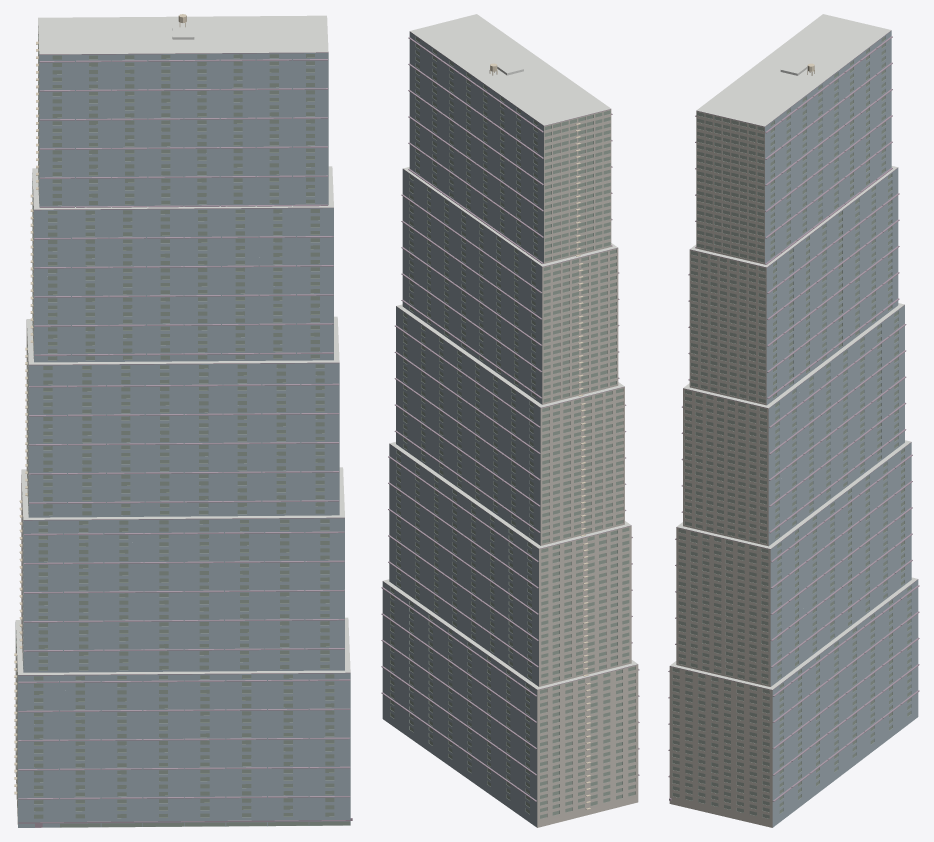
Rendered from doitt-778052__lod_0.glb.
3 views of the same model, side by side, from view 1: azimuth 30°, elevation 25°; view 2: azimuth 150°, elevation 25°; view 3: azimuth 270°, elevation 25° (orthographic). The views are drawn at different scales.
Size of the model in its own units: 159 by 383 by 125.
